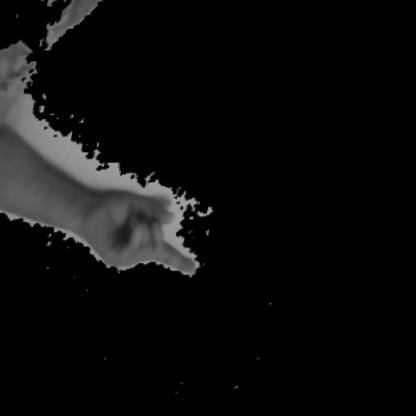one: (0, 90, 268, 324)
